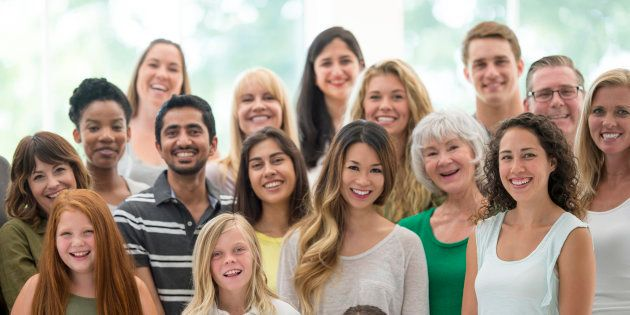without_mask: (53, 202, 105, 268), (25, 149, 78, 210), (81, 104, 129, 167), (500, 135, 547, 199), (418, 133, 472, 187), (206, 229, 253, 291), (139, 44, 182, 111), (338, 139, 384, 201), (588, 85, 628, 156), (364, 76, 413, 133), (532, 71, 577, 133), (468, 39, 514, 99), (248, 143, 293, 201), (163, 114, 206, 174), (241, 80, 282, 139), (314, 40, 358, 94)
